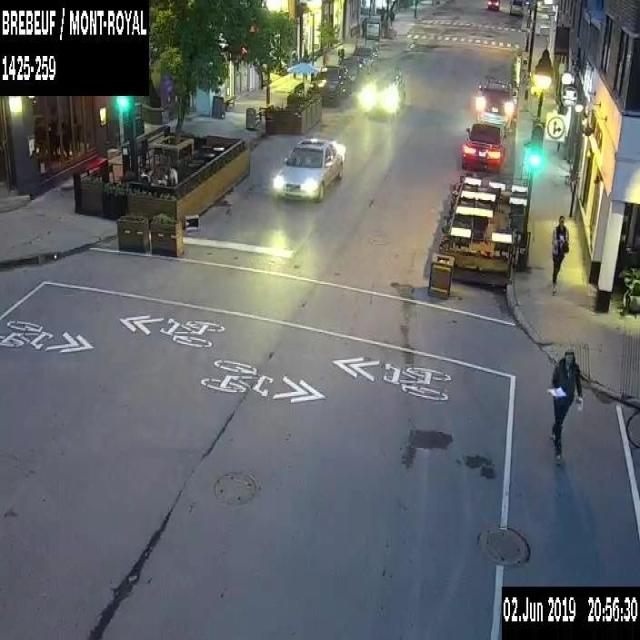pedestrian: (549, 348, 583, 456), (551, 213, 567, 291), (362, 16, 366, 36)
vehicle: (273, 134, 346, 198), (460, 123, 507, 168), (357, 70, 405, 114), (473, 78, 517, 122), (313, 64, 350, 104), (352, 45, 377, 70), (507, 0, 523, 13), (485, 0, 500, 11)
